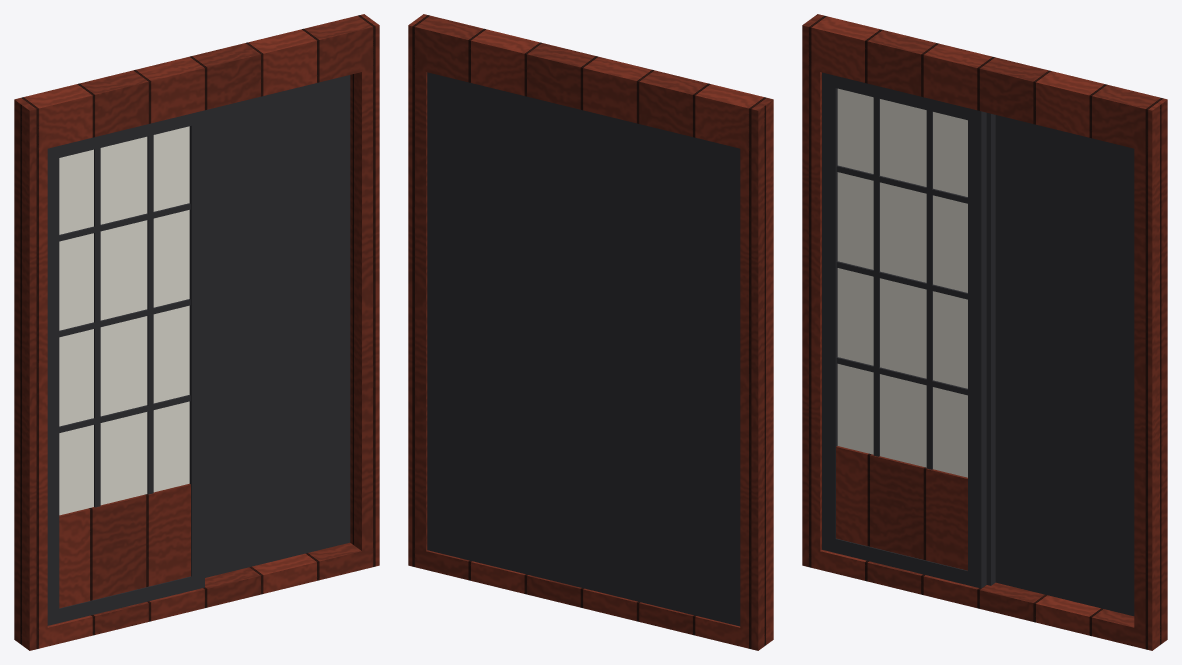
File: ShojiDoor_Open.fbx
The picture shows the model from 3 angles, left to right: view 1: azimuth 30°, elevation 25°; view 2: azimuth 150°, elevation 25°; view 3: azimuth 330°, elevation 25°; orthographic projection.
Parts seen in each view (by area): view 1: ShojiDoor_Open; view 2: ShojiDoor_Open; view 3: ShojiDoor_Open.
Boxes of the visible parts, box(x1,y1,x2,y2) form: ShojiDoor_Open: box(14, 14, 379, 650); ShojiDoor_Open: box(408, 14, 773, 650); ShojiDoor_Open: box(802, 14, 1167, 650).
Bounding box in the file's own units: 1.56 × 2.3 × 0.12.
Materials: 3 (1 with a texture image).
